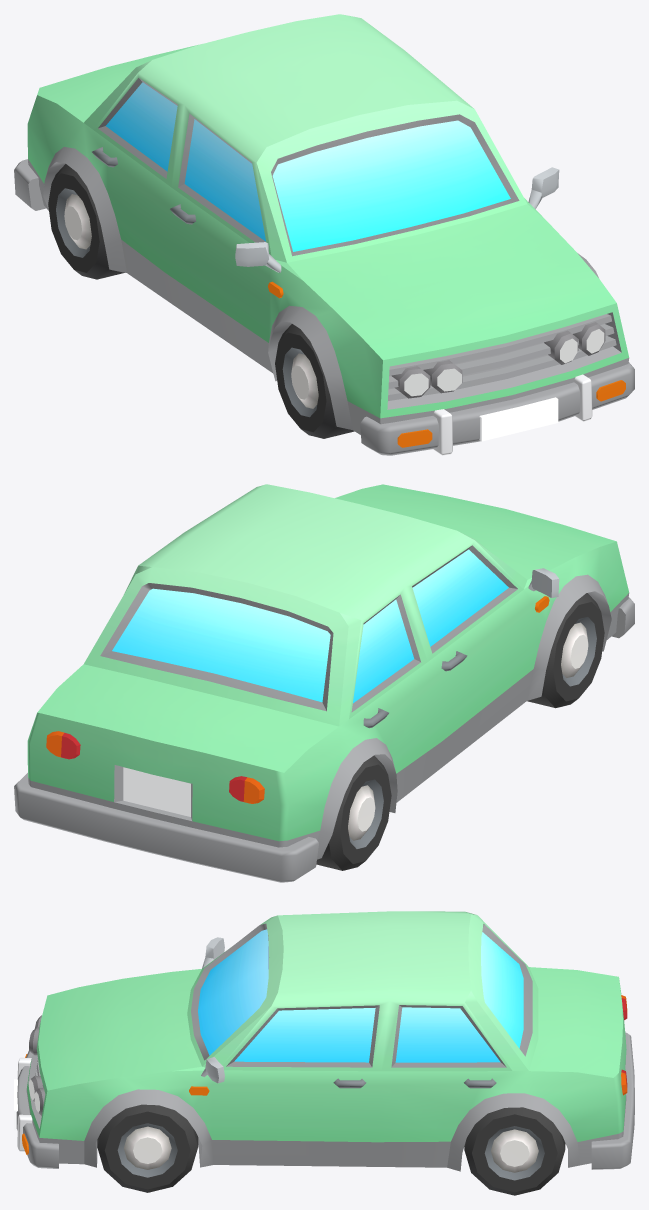
The model's file is city2-car-26.glb.
The picture shows the model from 3 angles, top to bottom: view 1: azimuth 30°, elevation 25°; view 2: azimuth 150°, elevation 25°; view 3: azimuth 270°, elevation 25°; orthographic projection. The views are drawn at different scales.
Visible parts, largest first — view 1: Car_26, Wheel_141, Wheel_142; view 2: Car_26, Wheel_142, Wheel_141; view 3: Car_26, Wheel_143, Wheel_144.
Part boxes in pixels (bbox=[...]): Car_26: bbox=[14, 14, 634, 455]; Wheel_141: bbox=[275, 324, 354, 438]; Wheel_142: bbox=[48, 164, 124, 279]; Car_26: bbox=[14, 484, 634, 882]; Wheel_142: bbox=[316, 755, 391, 870]; Wheel_141: bbox=[527, 593, 604, 708]; Car_26: bbox=[14, 911, 634, 1171]; Wheel_143: bbox=[97, 1104, 198, 1192]; Wheel_144: bbox=[464, 1107, 565, 1195].
Size of the model in its own units: 2.62 by 1.8 by 5.22.
Materials: 2 (2 with a texture image).
